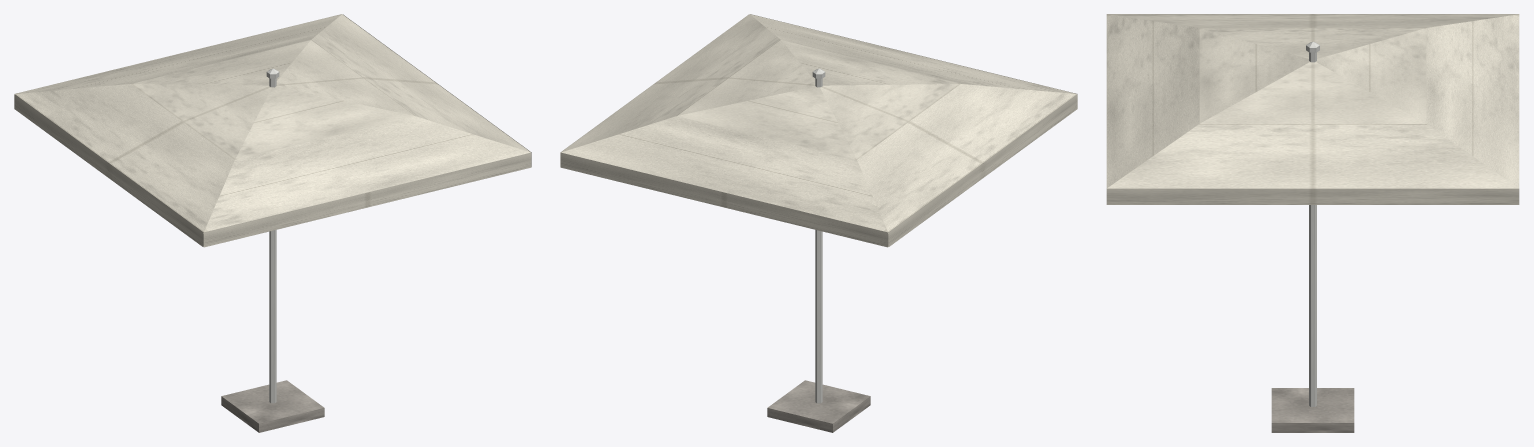
Rendered from SM_Molo_Ombrellone3x3_LOD1.fbx.
3 views of the same model, side by side, from view 1: azimuth 30°, elevation 25°; view 2: azimuth 150°, elevation 25°; view 3: azimuth 270°, elevation 25° (orthographic). The views are drawn at different scales.
Visible parts, largest first — view 1: SM_Molo_Ombrellone3x3_LOD1; view 2: SM_Molo_Ombrellone3x3_LOD1; view 3: SM_Molo_Ombrellone3x3_LOD1.
Boxes of the visible parts, x1=… form: SM_Molo_Ombrellone3x3_LOD1: x1=14, y1=14, x2=531, y2=432; SM_Molo_Ombrellone3x3_LOD1: x1=560, y1=14, x2=1077, y2=432; SM_Molo_Ombrellone3x3_LOD1: x1=1106, y1=14, x2=1519, y2=432.
Bounding box in the file's own units: 301 × 301 × 300.
1 material, 1 textured.
